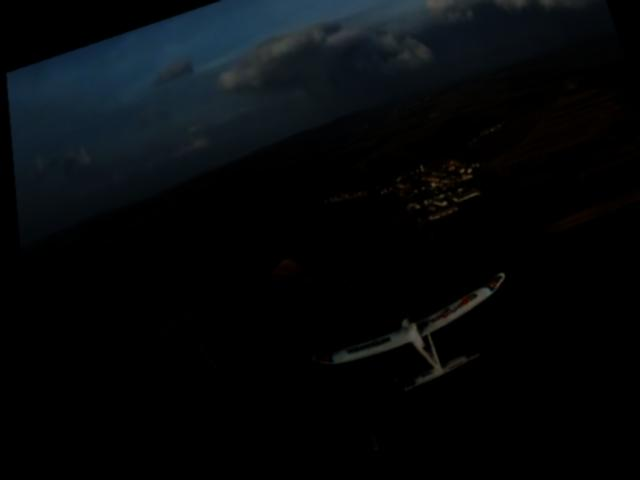iha: (299, 279, 524, 421)
